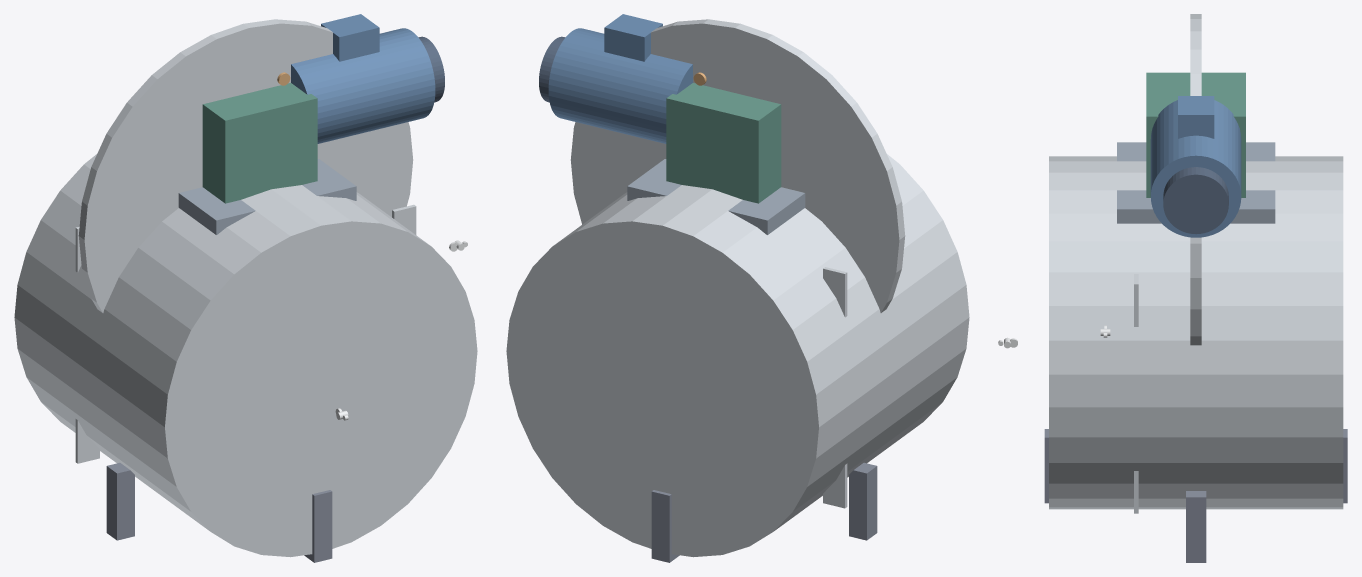
Rendered from agitator.glb.
The picture shows the model from 3 angles, left to right: view 1: azimuth 30°, elevation 25°; view 2: azimuth 150°, elevation 25°; view 3: azimuth 270°, elevation 25°; orthographic projection. The views are drawn at different scales.
Visible parts, largest first — view 1: CASING_TANK_001, CASING_TANK_002, CASING_GEARBOX_012, CASING_MOTORBODY_015, CASING_MOUNTPLATE_011, PART_005, CASING_TERMBOX_017, PART_004, CASING_BAFFLE_009, CASING_COWL_016; view 2: CASING_TANK_001, CASING_TANK_002, CASING_GEARBOX_012, CASING_MOTORBODY_015, CASING_MOUNTPLATE_011, PART_005, CASING_TERMBOX_017, PART_006, CASING_BAFFLE_009, CASING_COWL_016; view 3: CASING_TANK_001, CASING_MOTORBODY_015, CASING_GEARBOX_012, CASING_MOUNTPLATE_011, CASING_COWL_016, CASING_TANK_002, CASING_TERMBOX_017, PART_003, CASING_BAFFLE_007.
Part boxes in pixels (box(x1,y1,x2,y2)): CASING_TANK_001: box(14, 154, 477, 557); CASING_TANK_002: box(78, 19, 413, 312); CASING_GEARBOX_012: box(202, 83, 317, 203); CASING_MOTORBODY_015: box(291, 28, 435, 143); CASING_MOUNTPLATE_011: box(178, 159, 356, 234); PART_005: box(106, 462, 134, 540); CASING_TERMBOX_017: box(321, 14, 379, 61); PART_004: box(304, 490, 332, 562); CASING_BAFFLE_009: box(75, 226, 99, 463); CASING_COWL_016: box(418, 36, 444, 102); CASING_TANK_001: box(506, 154, 969, 557); CASING_TANK_002: box(570, 19, 905, 312); CASING_GEARBOX_012: box(666, 83, 781, 203); CASING_MOTORBODY_015: box(548, 28, 692, 143); CASING_MOUNTPLATE_011: box(627, 159, 805, 234); PART_005: box(849, 462, 877, 540); CASING_TERMBOX_017: box(604, 14, 662, 61); PART_006: box(651, 490, 679, 562); CASING_BAFFLE_009: box(823, 267, 847, 508); CASING_COWL_016: box(539, 36, 565, 102); CASING_TANK_001: box(1049, 156, 1343, 509); CASING_MOTORBODY_015: box(1150, 100, 1241, 237); CASING_GEARBOX_012: box(1146, 72, 1245, 197); CASING_MOUNTPLATE_011: box(1117, 142, 1275, 223); CASING_COWL_016: box(1163, 167, 1228, 234); CASING_TANK_002: box(1190, 14, 1201, 345); CASING_TERMBOX_017: box(1178, 96, 1214, 138); PART_003: box(1186, 491, 1206, 562); CASING_BAFFLE_007: box(1134, 274, 1138, 513).
Bounding box in the file's own units: 1.73 × 2.29 × 1.54.
